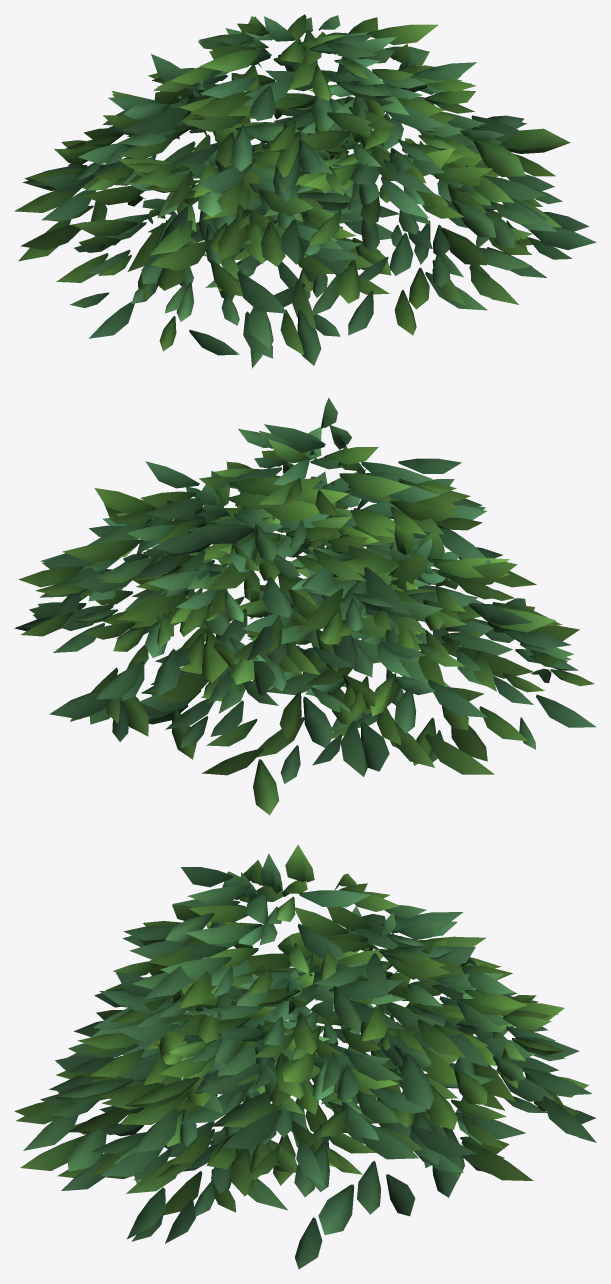
File: bush_round.glb
3 views of the same model, one above another, from view 1: azimuth 30°, elevation 25°; view 2: azimuth 150°, elevation 25°; view 3: azimuth 270°, elevation 25° (orthographic). The views are drawn at different scales.
Parts seen in each view (by area): view 1: bush_round; view 2: bush_round; view 3: bush_round.
Part boxes in pixels (x1,y1,x2,y2): bush_round: (14, 14, 596, 368); bush_round: (14, 398, 596, 815); bush_round: (14, 844, 596, 1269).
Size of the model in its own units: 1.91 by 0.893 by 1.74.
